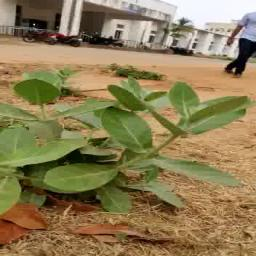CALOTROPIS: (9, 52, 246, 217)
